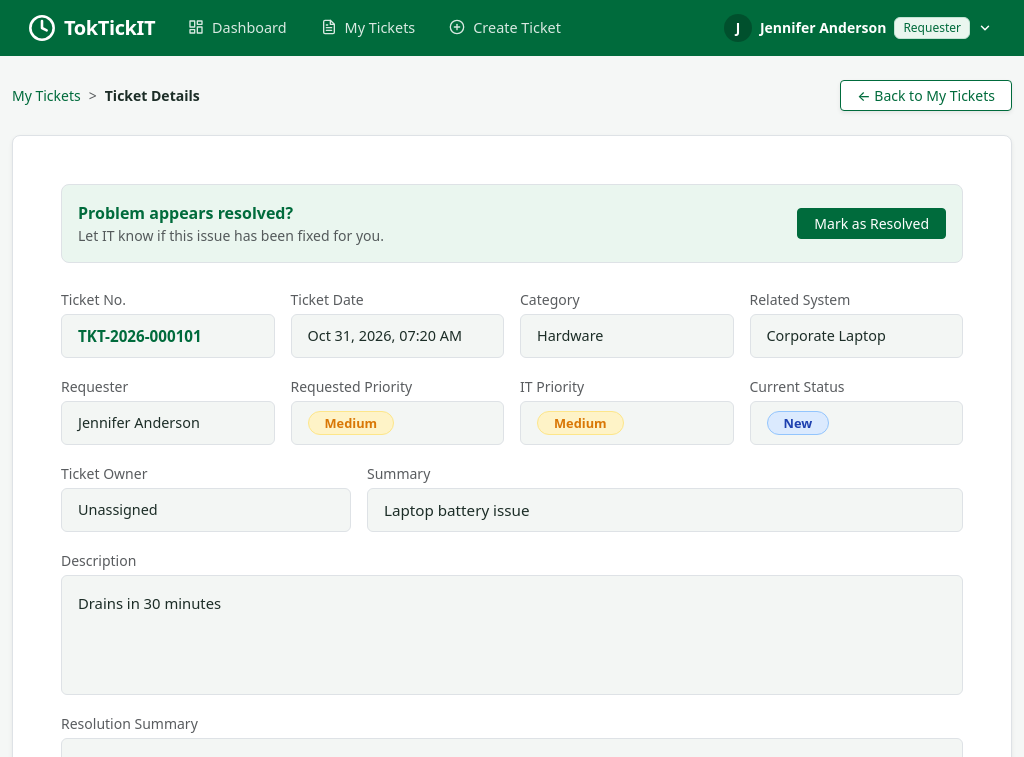
Scenario: Protected Route Guard and Intended Destination UI Tests › clears intended destination on explicit logout so next staff login lands on /queue instead of previous user route
Expected: the text "TKT-2026-000101" is shown, [61,314,274,358]
# Click Profile and Sign Out
Click the button with aria-label "profile". click: (858, 28)
box: [720,10,996,46]
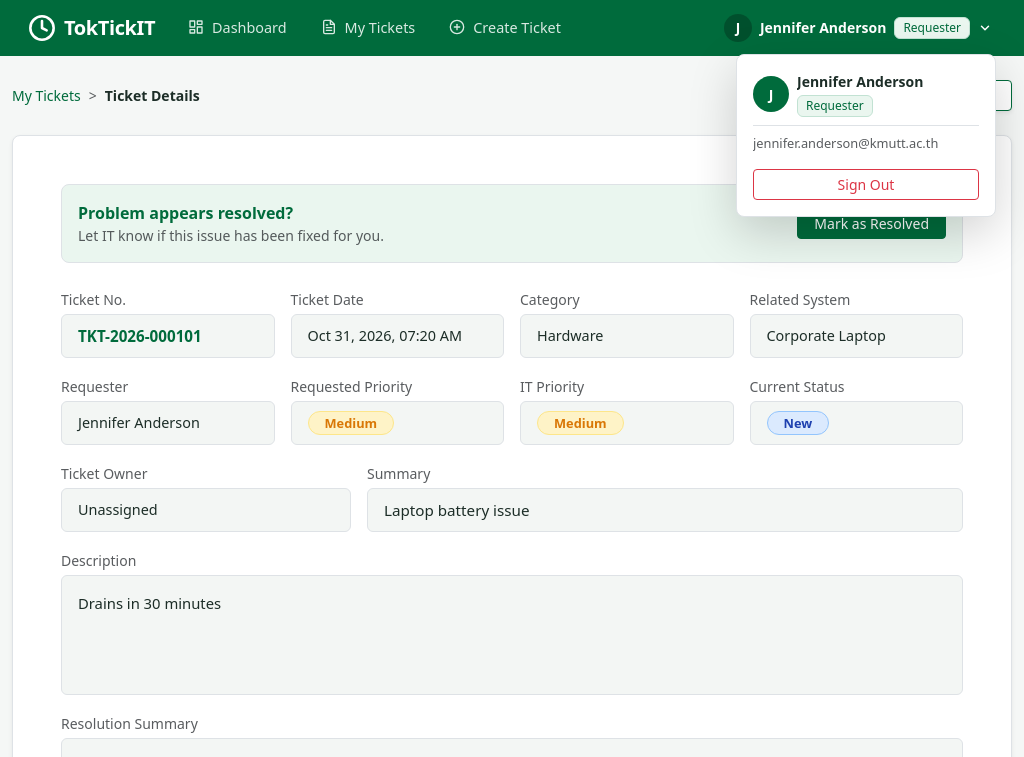
Click the button "Sign Out". click: (866, 185)
box: [753,169,979,200]
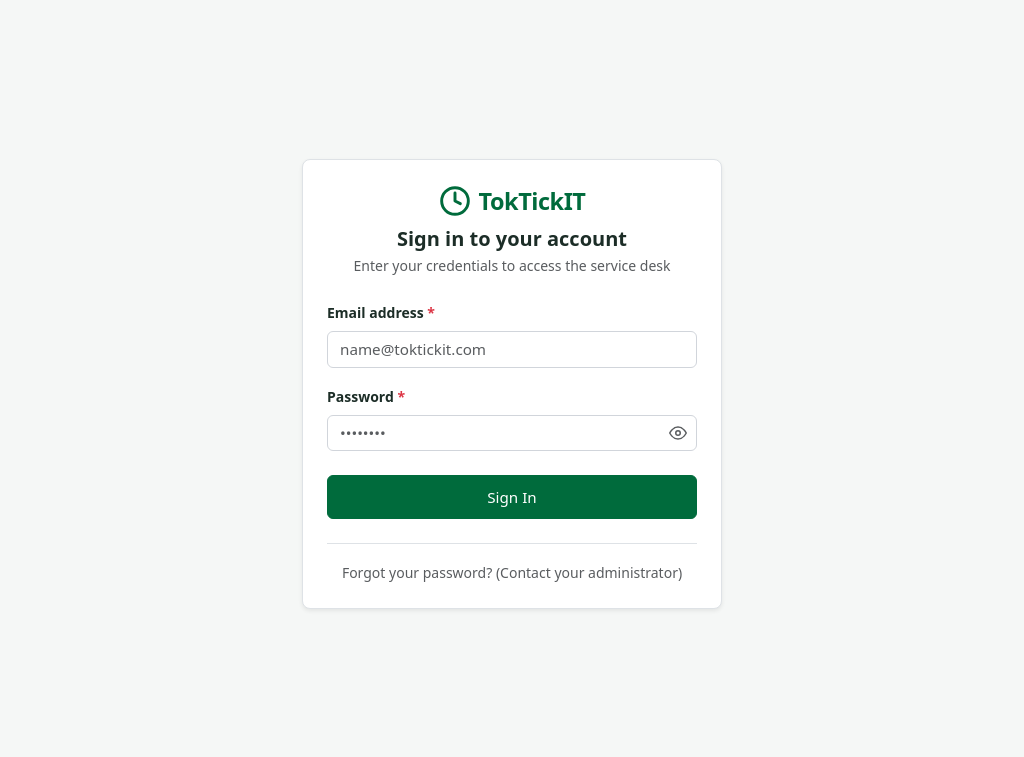
Result: the heading "Sign in to your account" is shown at [397,225,627,252]
Type "staff.michael@toktickit.com" into the field labelled "Email address *". click: (512, 349)
box: [327,331,697,368]
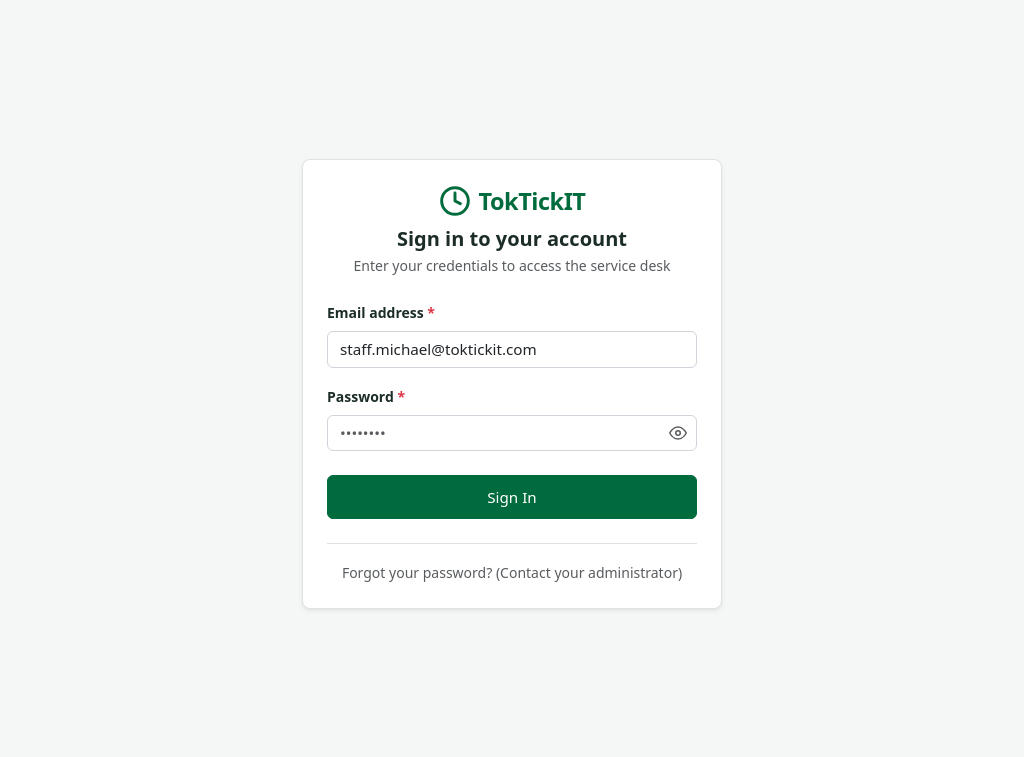
Type "Password123!" into the password field labelled "Password *". click: (512, 433)
box: [327,415,697,451]
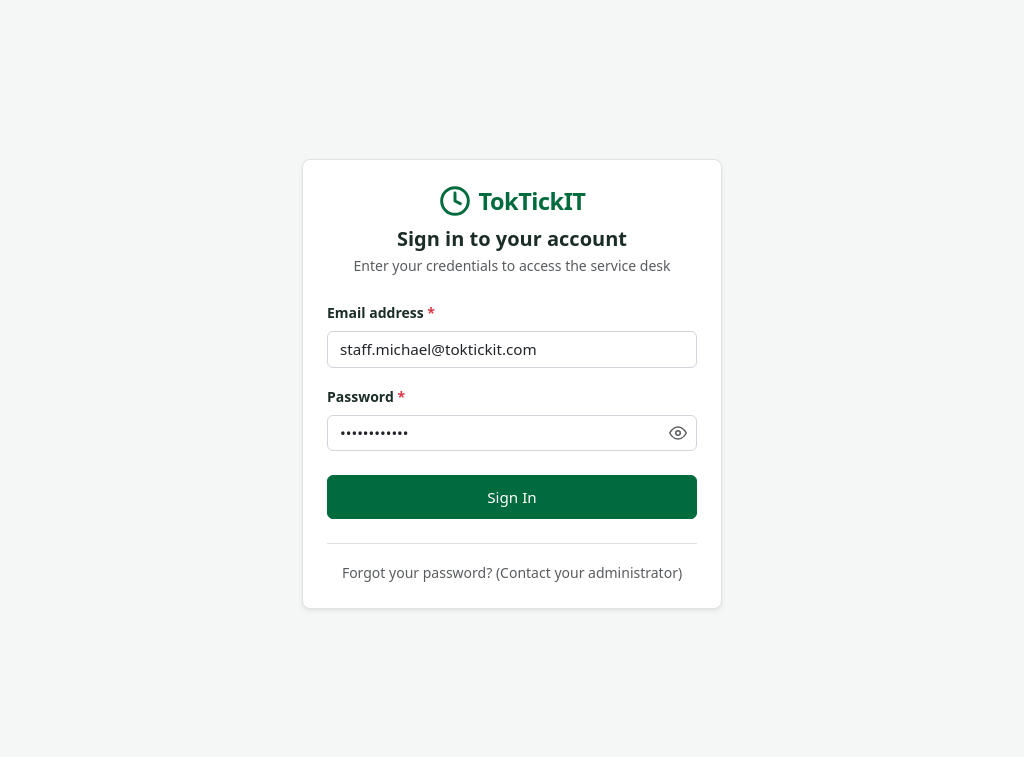
Click the button "Sign In". click: (512, 497)
box: [327,475,697,519]
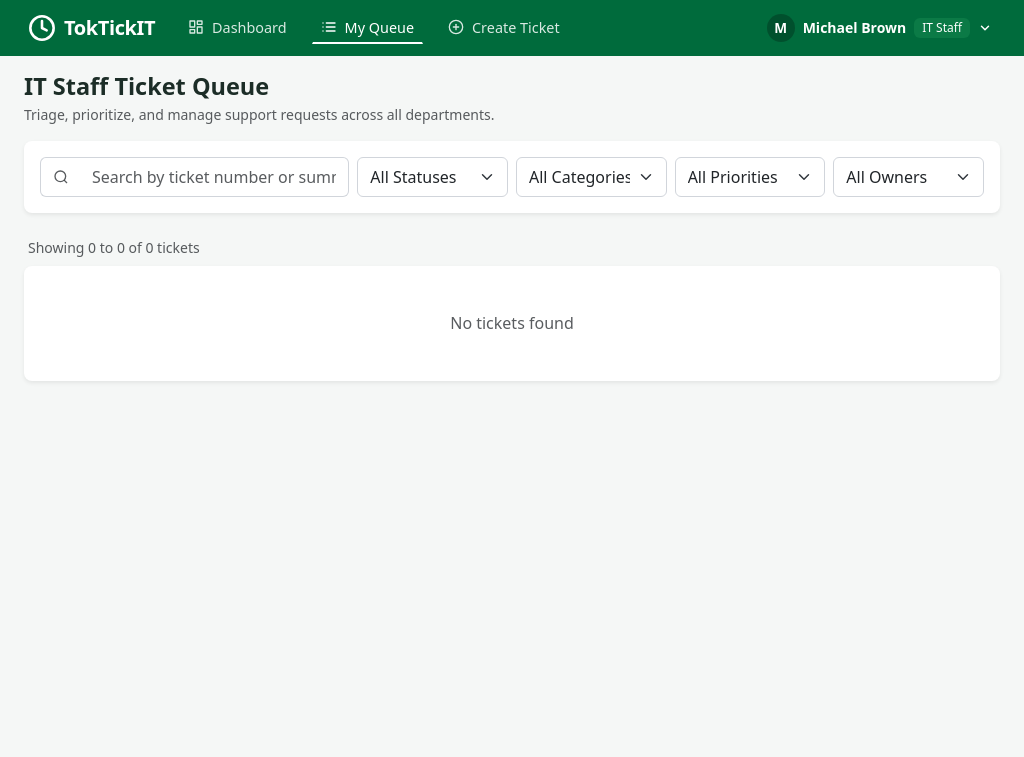
Result: the heading "IT Staff Ticket Queue" is shown at [24,70,269,102]
